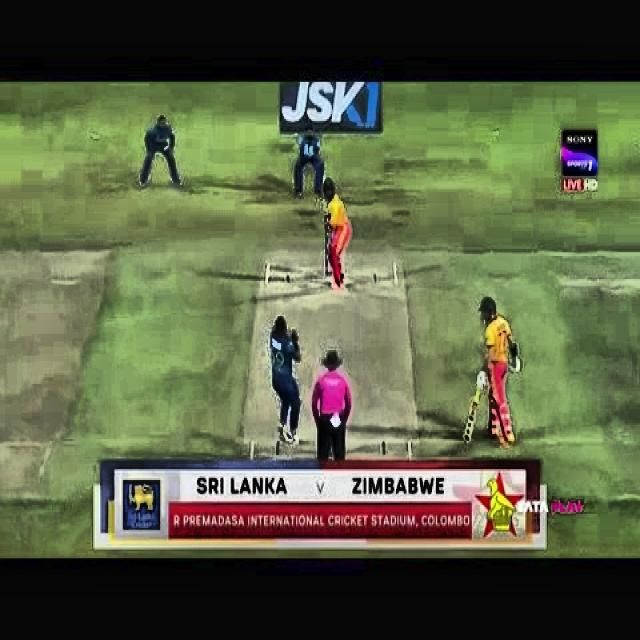Left-stump: (325, 227, 328, 275)
